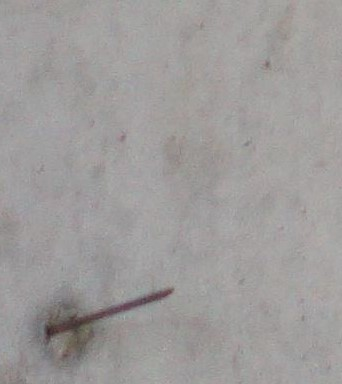Exposed reinforcement: (45, 286, 175, 338)
Spalling: (37, 301, 96, 368)
